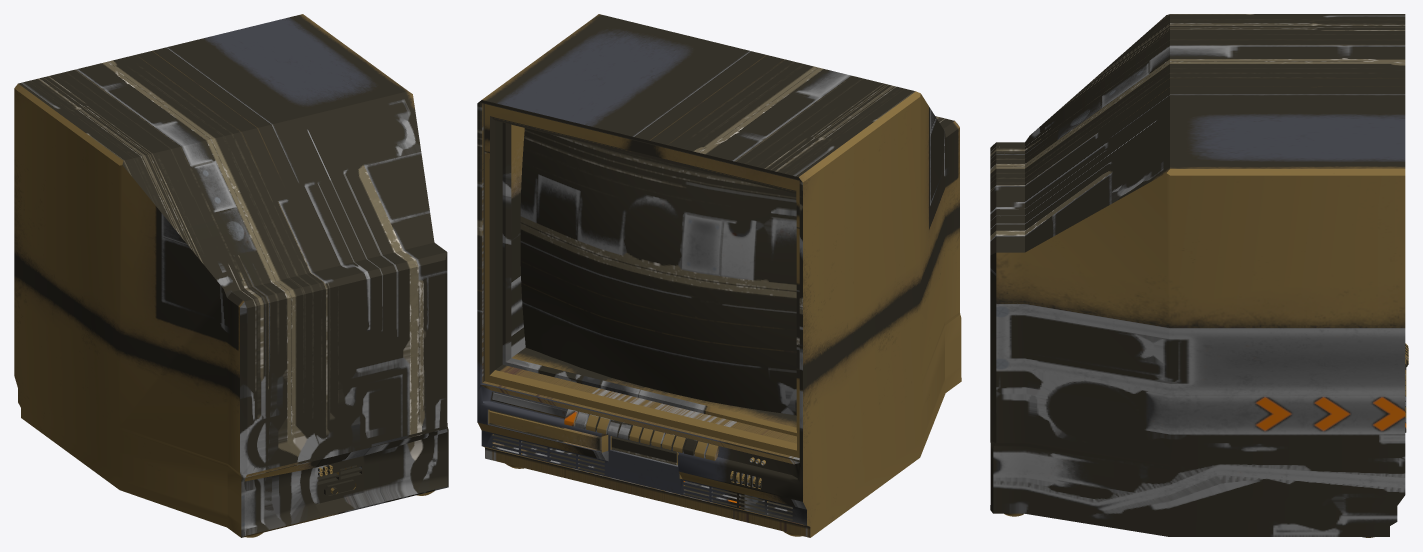
File: television.fbx
The picture shows the model from 3 angles, left to right: view 1: azimuth 30°, elevation 25°; view 2: azimuth 150°, elevation 25°; view 3: azimuth 270°, elevation 25°; orthographic projection. The views are drawn at different scales.
Parts seen in each view (by area): view 1: TV , Old TV , Retro TV.001; view 2: TV , Old TV , Retro TV.001; view 3: TV , Old TV , Retro TV.001.
Boxes of the visible parts, bbox=[...] form: TV , Old TV , Retro TV.001: bbox=[14, 14, 448, 537]; TV , Old TV , Retro TV.001: bbox=[477, 14, 961, 537]; TV , Old TV , Retro TV.001: bbox=[990, 14, 1408, 537].
Bounding box in the file's own units: 108 × 118 × 120.
